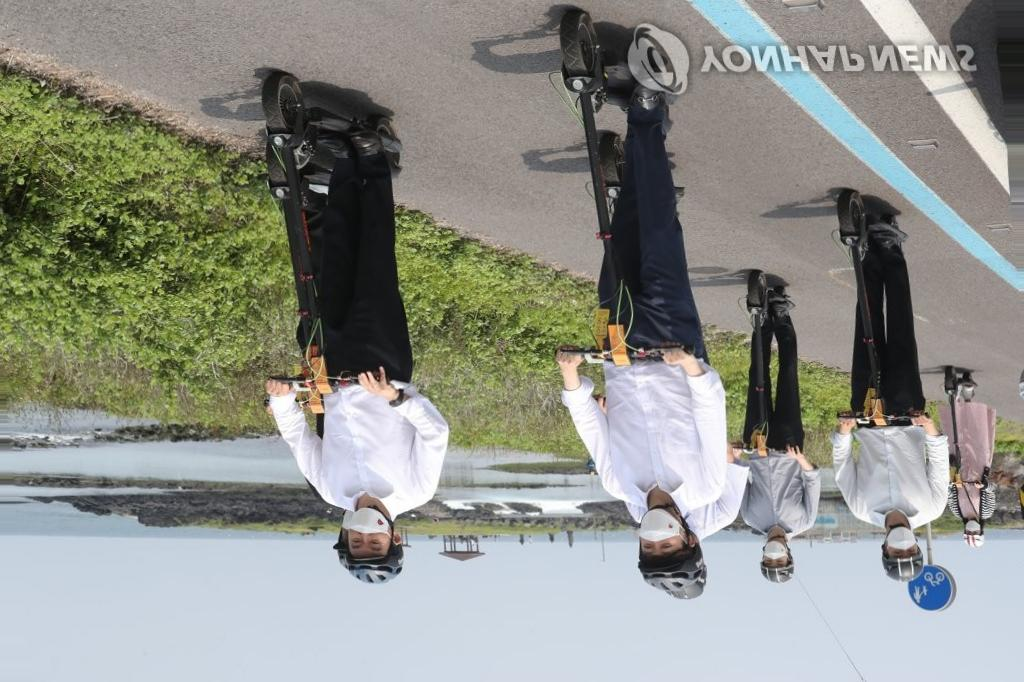scooter: (545, 8, 709, 365), (262, 74, 403, 399), (834, 185, 936, 430), (731, 271, 803, 461)
with helmet: (636, 510, 707, 594), (345, 510, 408, 583), (880, 525, 926, 585), (758, 541, 794, 589)
